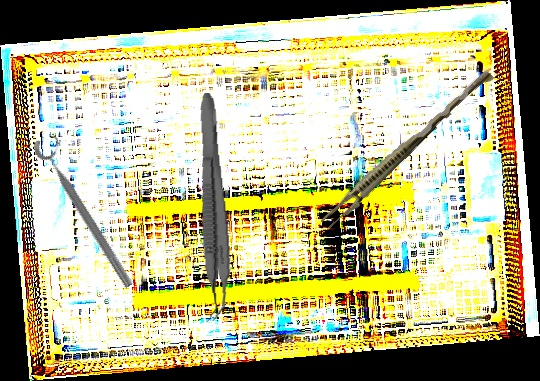Fixation Ring: (30, 129, 146, 292)
Tissue Forceps: (318, 62, 495, 235), (186, 92, 236, 322)
